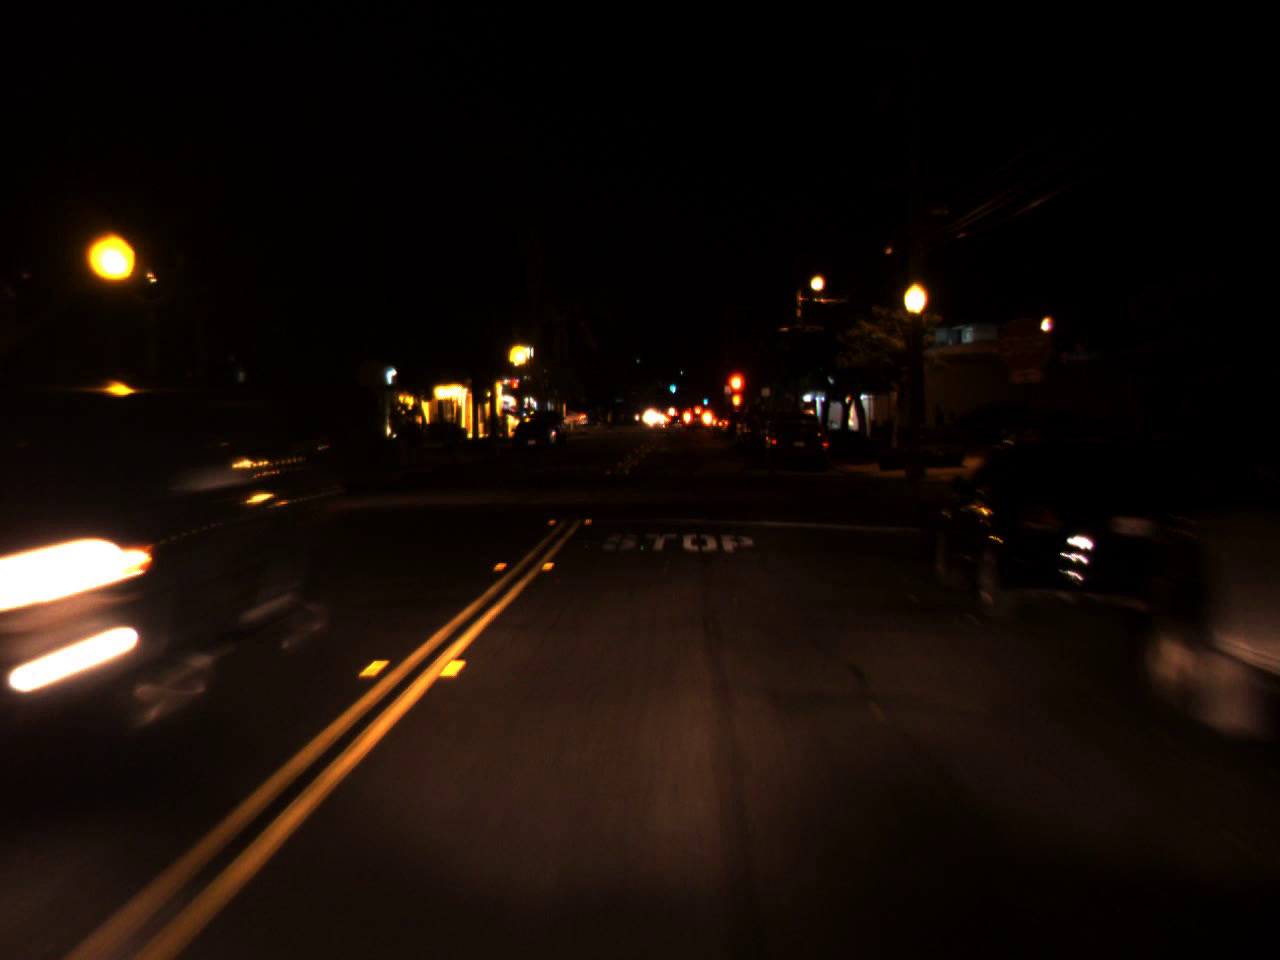go: (667, 375, 676, 396), (700, 389, 709, 407)
stop: (729, 374, 744, 401), (508, 377, 521, 401)
